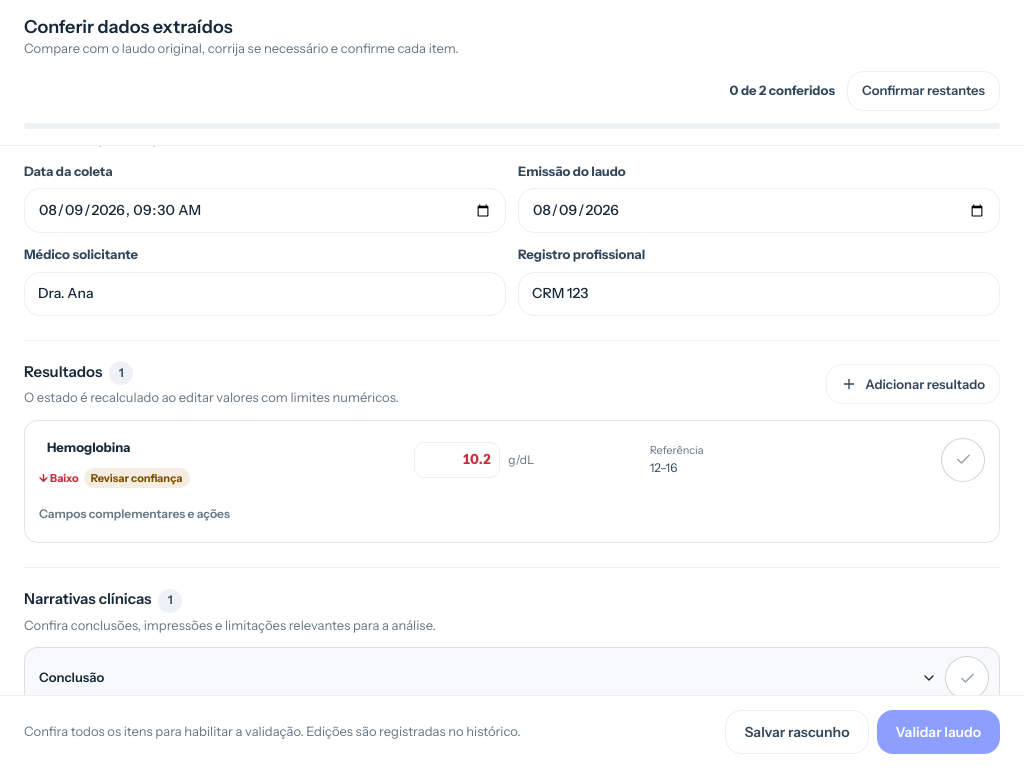
Test: adiciona resultado e move foco para o primeiro controle novo
(page scrolled)
Click the button "Adicionar resultado".
click(913, 384)  # box [826,364,1000,404]
(page scrolled)
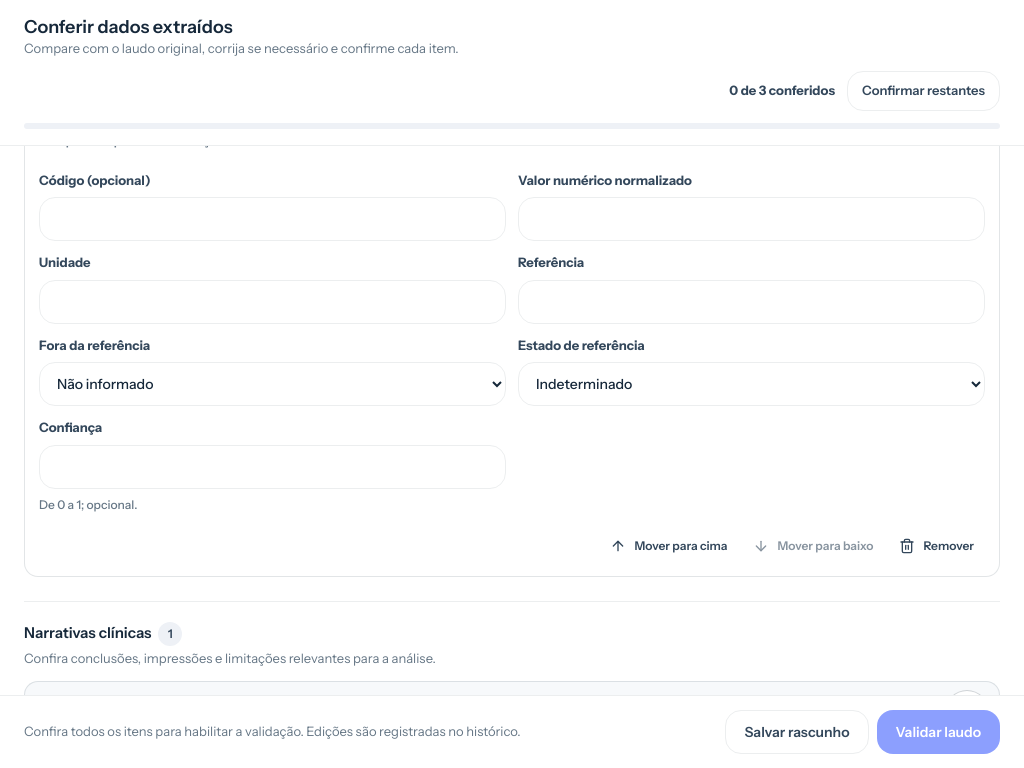
Now the dropdown labelled "Estado de referência" is enabled, box [518,362,985,406]
Now the dropdown labelled "Estado de referência" shows "Indeterminado", box [518,362,985,406]
